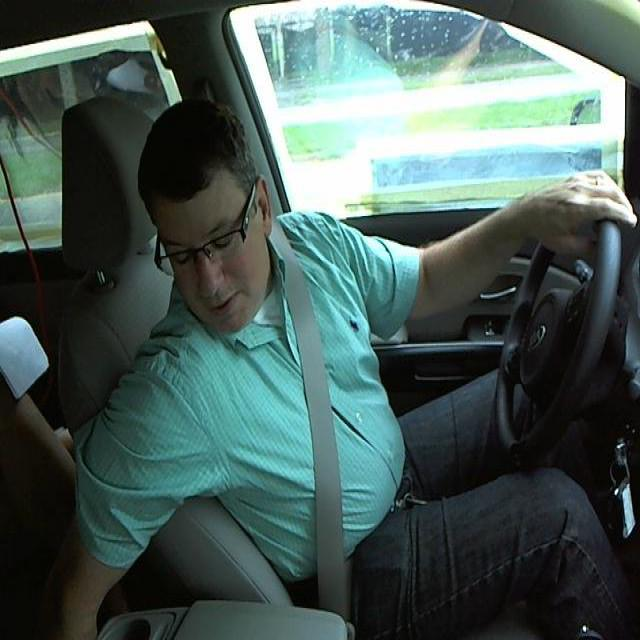seatbelt: (268, 259, 368, 612)
